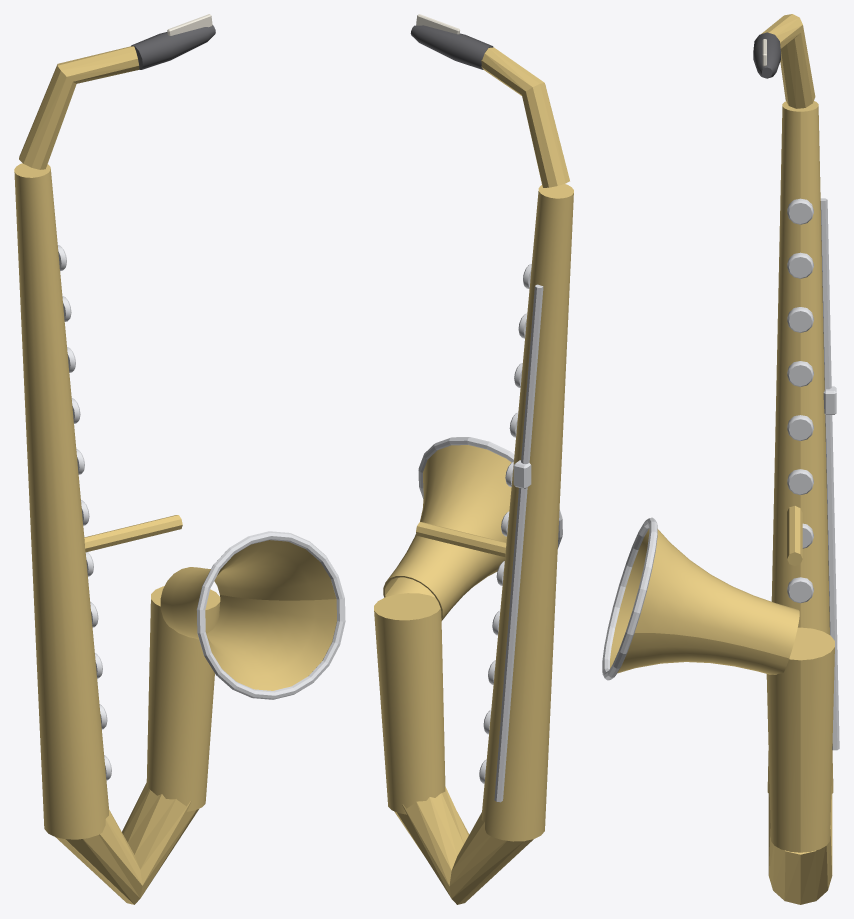
Rendered from orchestra-and-band-instruments-tenor-saxophone-38ba60bd__39300.glb.
3 renders of one model, left to right at view 1: azimuth 30°, elevation 25°; view 2: azimuth 150°, elevation 25°; view 3: azimuth 270°, elevation 25°, orthographic. The views are drawn at different scales.
Visible parts, largest first — view 1: tenor-saxophone; view 2: tenor-saxophone; view 3: tenor-saxophone.
Part boxes in pixels (x1,y1,x2,y2): tenor-saxophone: (14,14,345,904); tenor-saxophone: (374,14,573,904); tenor-saxophone: (602,14,839,904).
Size of the model in its own units: 0.2508 by 0.8759 by 0.2134.
